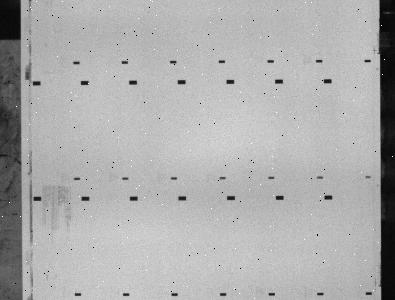incorrect qblock: (170, 176, 177, 180), (317, 176, 324, 179), (268, 176, 275, 179), (365, 175, 372, 178), (220, 176, 226, 179)
qblock: (32, 80, 42, 87), (81, 196, 90, 201), (177, 79, 186, 84), (324, 195, 333, 200), (226, 79, 235, 84), (178, 196, 187, 201), (33, 196, 41, 201), (81, 80, 89, 85), (275, 79, 283, 84), (129, 80, 137, 85), (130, 196, 138, 201), (276, 195, 284, 200), (227, 195, 235, 200), (324, 79, 332, 83)
smallqblock: (73, 60, 80, 65), (169, 60, 177, 64), (316, 59, 323, 63), (268, 292, 275, 296), (121, 61, 129, 64), (74, 293, 82, 296), (267, 60, 274, 63), (364, 59, 371, 62), (122, 177, 129, 180), (218, 60, 225, 63), (171, 293, 178, 296), (220, 293, 227, 296), (317, 292, 324, 295), (74, 177, 80, 180), (123, 293, 129, 296), (366, 292, 372, 295)
